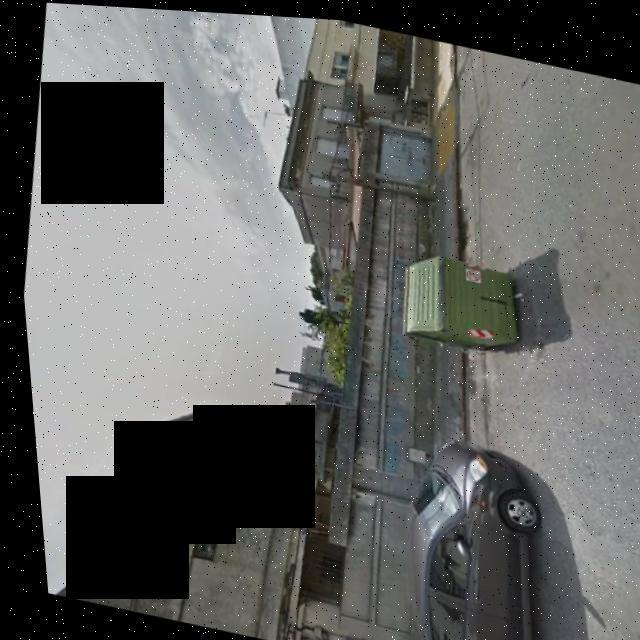bin: (378, 234, 537, 366)
